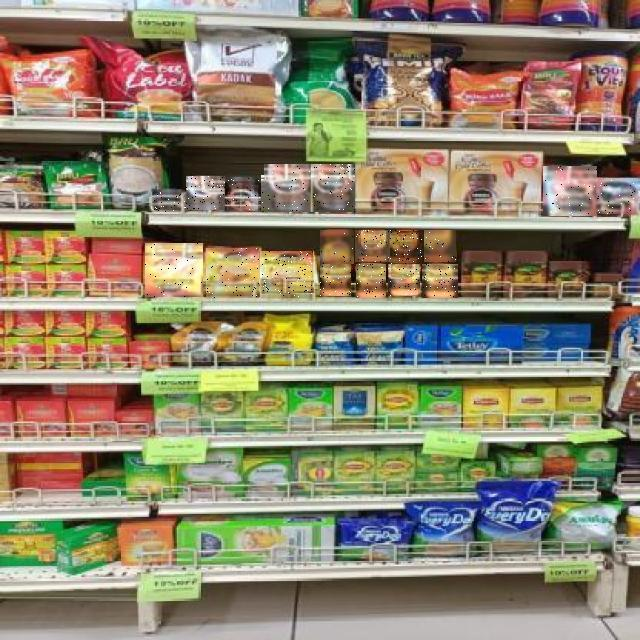Coffee: (145, 243, 203, 297), (543, 166, 597, 216), (206, 248, 259, 298), (261, 252, 315, 298), (264, 165, 313, 213), (311, 165, 355, 213), (597, 178, 639, 214), (226, 175, 266, 211), (186, 176, 226, 210), (422, 264, 458, 298), (320, 230, 354, 264), (389, 230, 422, 264), (355, 230, 390, 262), (424, 230, 456, 262), (388, 264, 420, 296), (356, 264, 386, 298), (320, 264, 351, 296), (154, 190, 188, 212)
